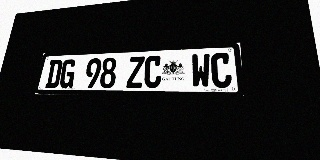8: (99, 57, 118, 88)
9: (84, 58, 102, 88)
C: (211, 52, 232, 88), (143, 55, 162, 88)
D: (45, 60, 63, 88)
G: (58, 59, 77, 88)
W: (191, 53, 211, 88)
Z: (126, 56, 145, 88)
